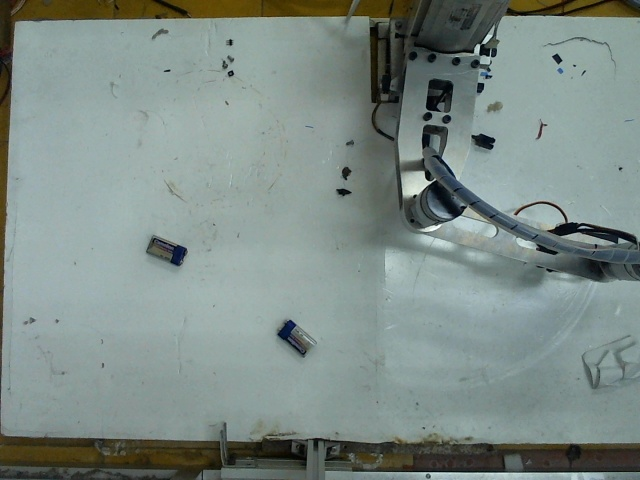battery: (271, 315, 318, 358), (140, 229, 185, 266)
